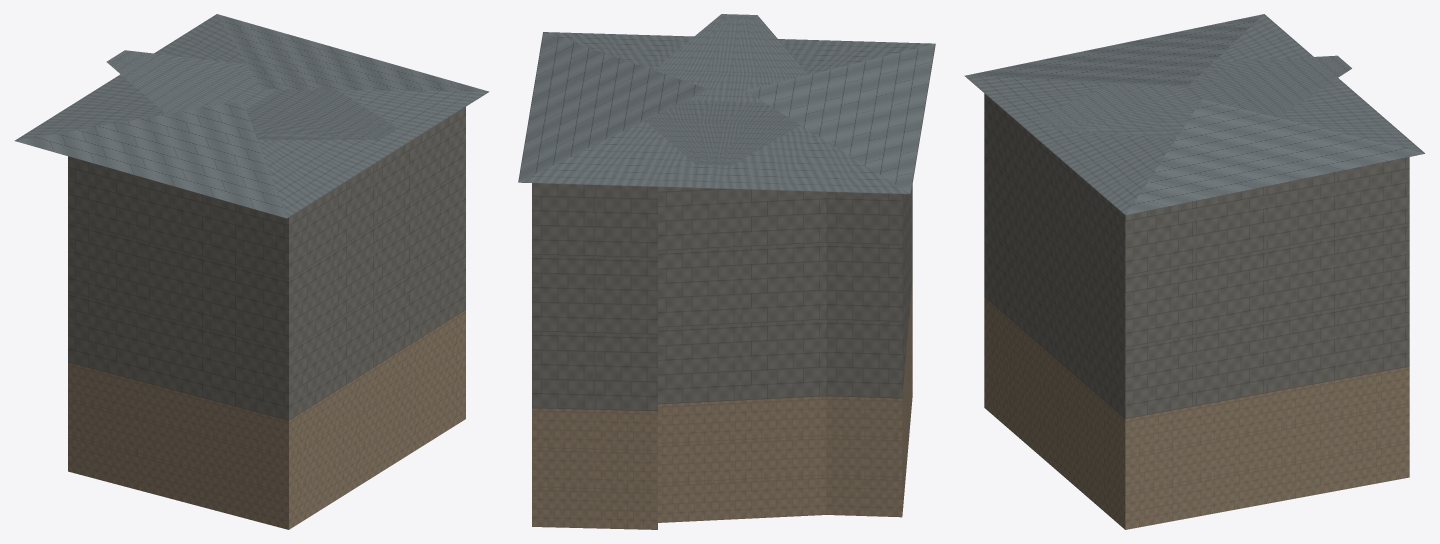
File: bld_c30_-25_536.gltf
3 views of the same model, side by side, from view 1: azimuth 30°, elevation 25°; view 2: azimuth 150°, elevation 25°; view 3: azimuth 270°, elevation 25° (orthographic). The views are drawn at different scales.
Parts seen in each view (by area): view 1: bld_c30_-25_536; view 2: bld_c30_-25_536; view 3: bld_c30_-25_536.
Boxes of the visible parts, left/top/right/bottom form: bld_c30_-25_536: left=14, top=14, right=489, bottom=529; bld_c30_-25_536: left=518, top=14, right=935, bottom=529; bld_c30_-25_536: left=964, top=14, right=1424, bottom=529.
Size of the model in its own units: 19.88 by 16 by 19.23.
Materials: 3 (3 with a texture image).
